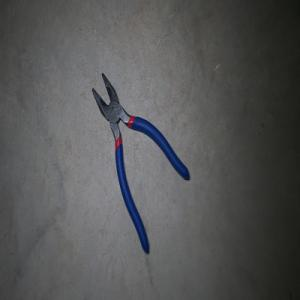Pliers: (91, 72, 190, 254)
